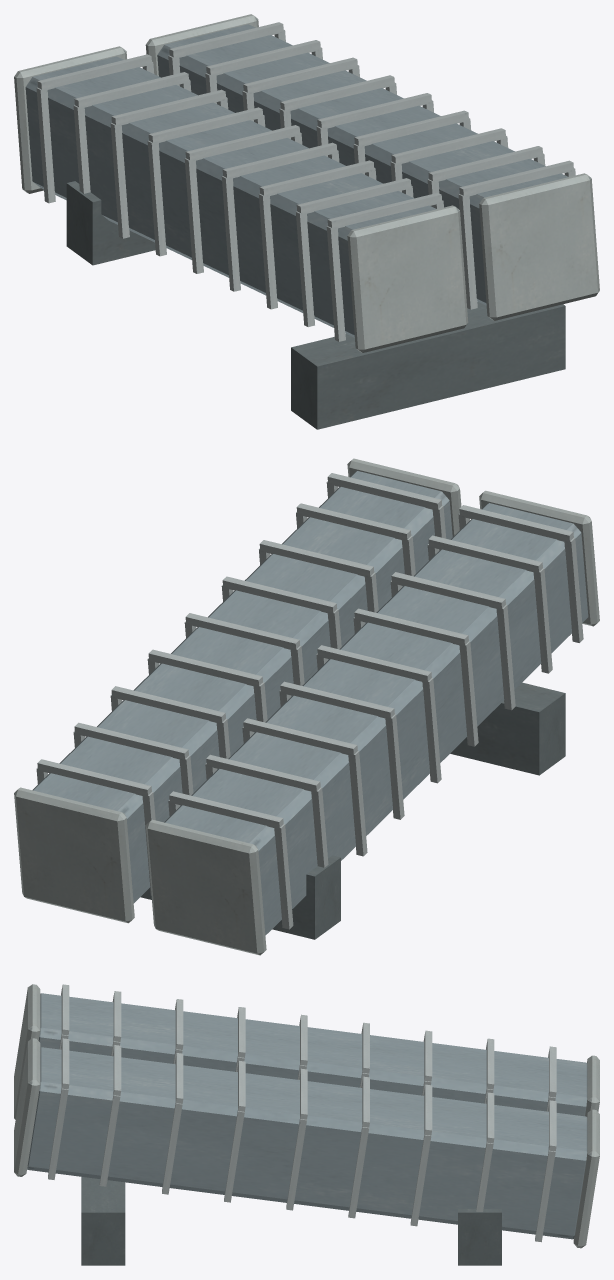
The model's file is mount_gepard_exocet.glb.
3 views of the same model, one above another, from view 1: azimuth 30°, elevation 25°; view 2: azimuth 150°, elevation 25°; view 3: azimuth 270°, elevation 25° (orthographic). The views are drawn at different scales.
Parts seen in each view (by area): view 1: MESH_GEPARD_TEMPLATE_exocet.008; view 2: MESH_GEPARD_TEMPLATE_exocet.008; view 3: MESH_GEPARD_TEMPLATE_exocet.008.
Boxes of the visible parts, x1,y1,x2,y2 form: MESH_GEPARD_TEMPLATE_exocet.008: [14, 14, 599, 429]; MESH_GEPARD_TEMPLATE_exocet.008: [14, 458, 599, 955]; MESH_GEPARD_TEMPLATE_exocet.008: [14, 984, 599, 1265].
Bounding box in the file's own units: 399 × 335 × 972.
1 material, 1 textured.
